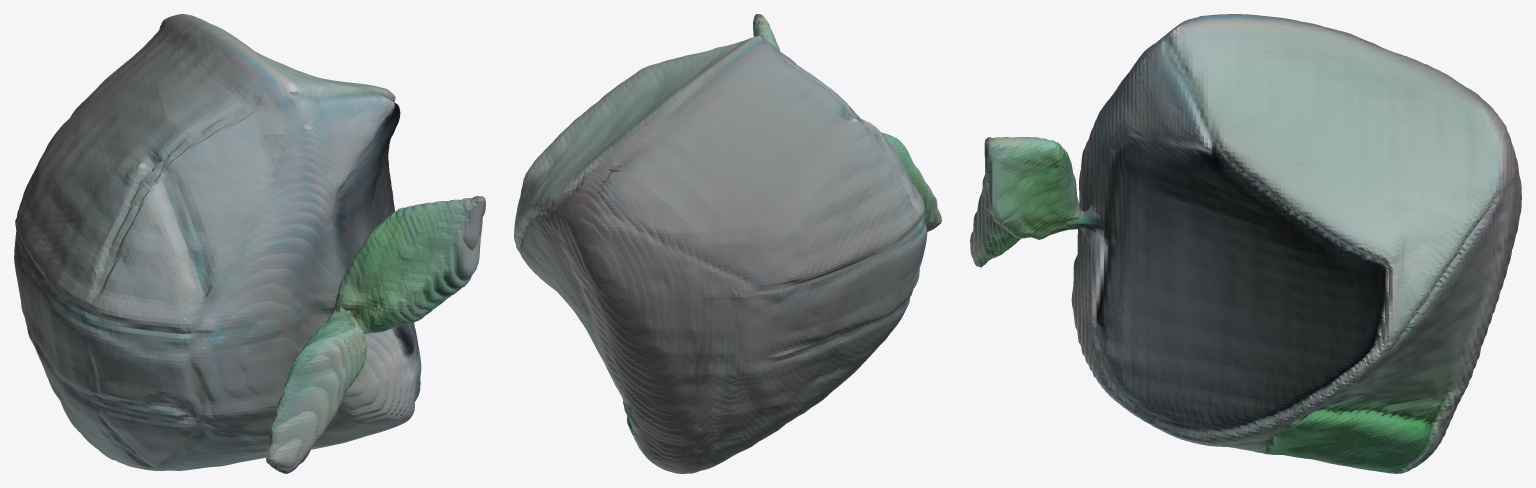
3 renders of one model, left to right at view 1: azimuth 30°, elevation 25°; view 2: azimuth 150°, elevation 25°; view 3: azimuth 270°, elevation 25°, orthographic. The views are drawn at different scales.
Visible parts, largest first — view 1: world; view 2: world; view 3: world.
Boxes of the visible parts, bbox=[...] form: world: bbox=[14, 14, 485, 473]; world: bbox=[514, 14, 941, 473]; world: bbox=[970, 14, 1521, 473].
Size of the model in its own units: 0.8121 by 0.879 by 0.9778.
